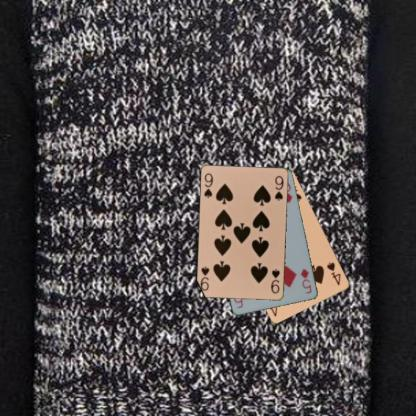4s: (324, 260, 342, 286)
5d: (298, 266, 313, 296)
9s: (269, 267, 281, 295), (202, 171, 214, 199)
